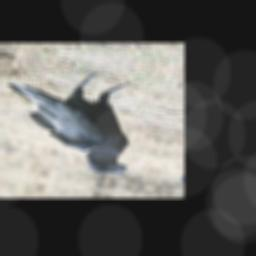Crow: (0, 58, 156, 178)
